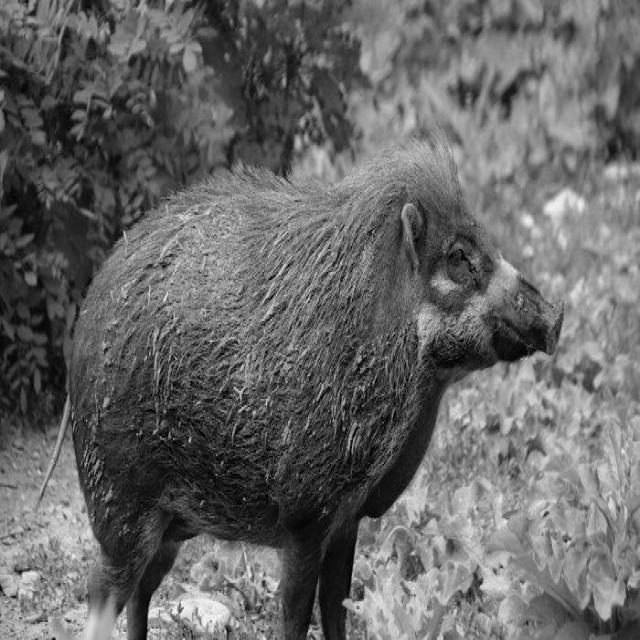boar: (69, 145, 564, 639)
